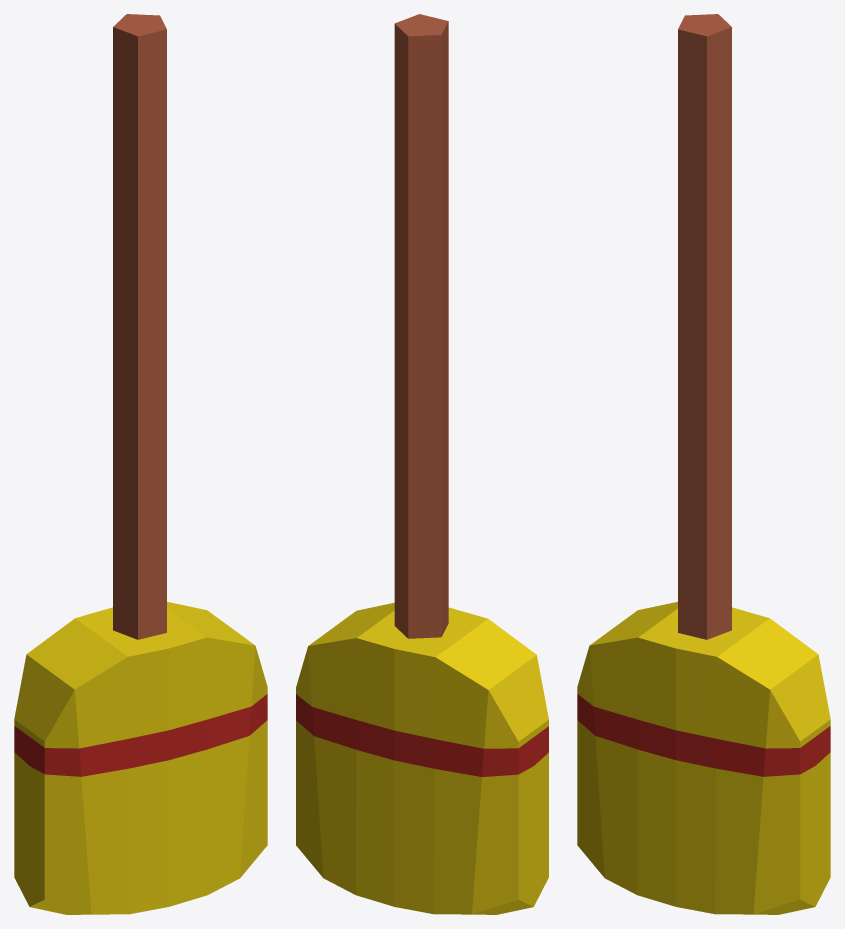
The model's file is Broom.fbx.
3 views of the same model, side by side, from view 1: azimuth 30°, elevation 25°; view 2: azimuth 150°, elevation 25°; view 3: azimuth 330°, elevation 25° (orthographic).
Parts seen in each view (by area): view 1: Cube, Cylinder; view 2: Cube, Cylinder; view 3: Cube, Cylinder.
Part boxes in pixels (left/top/right/bottom): Cube: left=14, top=601, right=267, bottom=914; Cylinder: left=113, top=14, right=166, bottom=639; Cube: left=296, top=602, right=548, bottom=914; Cylinder: left=394, top=14, right=448, bottom=638; Cube: left=577, top=601, right=830, bottom=914; Cylinder: left=678, top=14, right=731, bottom=639.
Size of the model in its own units: 200 by 755 by 87.33.
